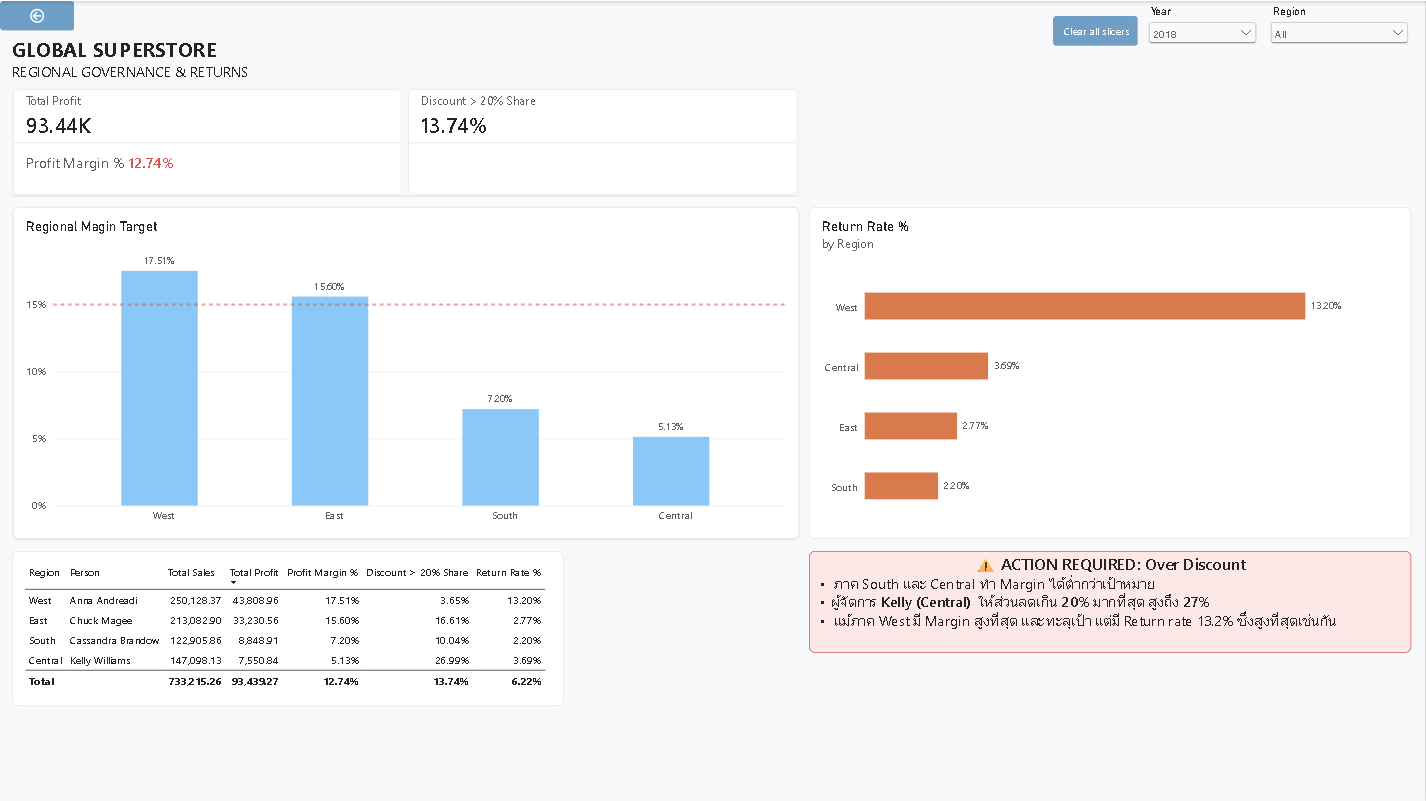

Layout of this report page (visuals, bound fields, positions):
{"tool":"powerbi","page":{"name":"Regional Governance","canvas":[1920,1080],"ordinal":2},"visuals":[{"type":"cardVisual","fields":{"Data":["_Measures.Total Profit","_Measures.Discount > 20% Share"]},"box":[17.1,118.6,1057.1,142.9],"z":0},{"type":"slicer","fields":{"Values":["Dim_Date.Year"]},"box":[1541.9,5.4,154.9,76.8],"z":1000},{"type":"clusteredColumnChart","title":"Regional Magin Target","fields":{"Category":["Fact_Orders.Region"],"Y":["_Measures.Profit Margin %"]},"box":[17.1,277.1,1058.6,447.1],"z":2000},{"type":"textbox","box":[16.2,45.8,1131.2,72.7],"z":4000},{"type":"slicer","fields":{"Values":["Fact_Orders.Region"]},"box":[1706.8,6,195,80.1],"z":5000},{"type":"actionButton","box":[0,0,100,40],"z":6000},{"type":"tableEx","title":"State Performance","fields":{"Values":["Fact_Orders.Region","Dim_People.Person","_Measures.Total Sales","_Measures.Total Profit","_Measures.Profit Margin %","_Measures.Discount > 20% Share","_Measures.Return Rate %"]},"box":[15.7,740,742.9,208.6],"z":7000},{"type":"actionButton","box":[1418,20.2,114.5,40.4],"z":8000},{"type":"textbox","box":[1090,740,811.4,137.1],"z":9000},{"type":"clusteredBarChart","fields":{"Category":["Fact_Orders.Region"],"Y":["_Measures.Return Rate %"]},"box":[1090,277.1,811.4,447.1],"z":9001}]}

Visuals, with their boxes on the page's 1920x1080 design canvas (x1, y1, x2, y2). These are canvas units, not pixel positions in the 1426x801 screenshot, which may show the page scaled, cropped or inside an application window:
cardVisual - _Measures.Total Profit x _Measures.Discount > 20% Share: (17,119,1074,262)
slicer - Dim_Date.Year: (1542,5,1697,82)
"Regional Magin Target" clusteredColumnChart: (17,277,1076,724)
textbox: (16,46,1147,118)
slicer - Fact_Orders.Region: (1707,6,1902,86)
actionButton: (0,0,100,40)
"State Performance" tableEx: (16,740,759,949)
actionButton: (1418,20,1532,61)
textbox: (1090,740,1901,877)
clusteredBarChart - Fact_Orders.Region x _Measures.Return Rate %: (1090,277,1901,724)
